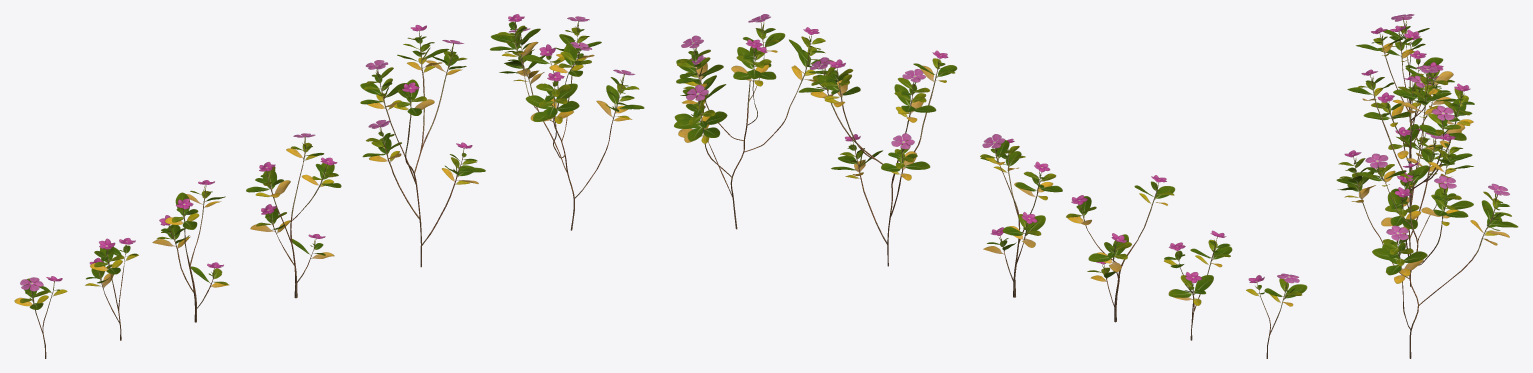
The model's file is periwinkle_plant_lod0.glb.
3 renders of one model, left to right at view 1: azimuth 30°, elevation 25°; view 2: azimuth 150°, elevation 25°; view 3: azimuth 270°, elevation 25°, orthographic. The views are drawn at different scales.
Visible parts, largest first — view 1: periwinkle_plant_01_LOD0, periwinkle_plant_02_LOD0, periwinkle_plant_03_LOD0, periwinkle_plant_04_LOD0, periwinkle_plant_05_LOD0, periwinkle_plant_06_LOD0; view 2: periwinkle_plant_01_LOD0, periwinkle_plant_02_LOD0, periwinkle_plant_03_LOD0, periwinkle_plant_04_LOD0, periwinkle_plant_05_LOD0, periwinkle_plant_06_LOD0; view 3: periwinkle_plant_01_LOD0, periwinkle_plant_02_LOD0, periwinkle_plant_03_LOD0, periwinkle_plant_04_LOD0, periwinkle_plant_05_LOD0, periwinkle_plant_06_LOD0.
Boxes of the visible parts, left/top/right/bottom form: periwinkle_plant_01_LOD0: left=490, top=14, right=644, bottom=230; periwinkle_plant_02_LOD0: left=360, top=25, right=485, bottom=267; periwinkle_plant_03_LOD0: left=246, top=133, right=341, bottom=298; periwinkle_plant_04_LOD0: left=152, top=180, right=228, bottom=322; periwinkle_plant_05_LOD0: left=85, top=238, right=138, bottom=340; periwinkle_plant_06_LOD0: left=14, top=276, right=67, bottom=358; periwinkle_plant_01_LOD0: left=674, top=14, right=833, bottom=229; periwinkle_plant_02_LOD0: left=799, top=50, right=957, bottom=266; periwinkle_plant_03_LOD0: left=980, top=134, right=1062, bottom=297; periwinkle_plant_04_LOD0: left=1066, top=175, right=1175, bottom=322; periwinkle_plant_05_LOD0: left=1164, top=230, right=1232, bottom=340; periwinkle_plant_06_LOD0: left=1246, top=273, right=1307, bottom=358; periwinkle_plant_01_LOD0: left=1336, top=133, right=1518, bottom=358; periwinkle_plant_02_LOD0: left=1347, top=65, right=1474, bottom=286; periwinkle_plant_03_LOD0: left=1363, top=75, right=1441, bottom=207; periwinkle_plant_04_LOD0: left=1356, top=27, right=1455, bottom=171; periwinkle_plant_05_LOD0: left=1377, top=25, right=1454, bottom=123; periwinkle_plant_06_LOD0: left=1383, top=14, right=1429, bottom=103.
Bounding box in the file's own units: 1.24 × 0.4107 × 0.3208.
1 material, 1 textured.
